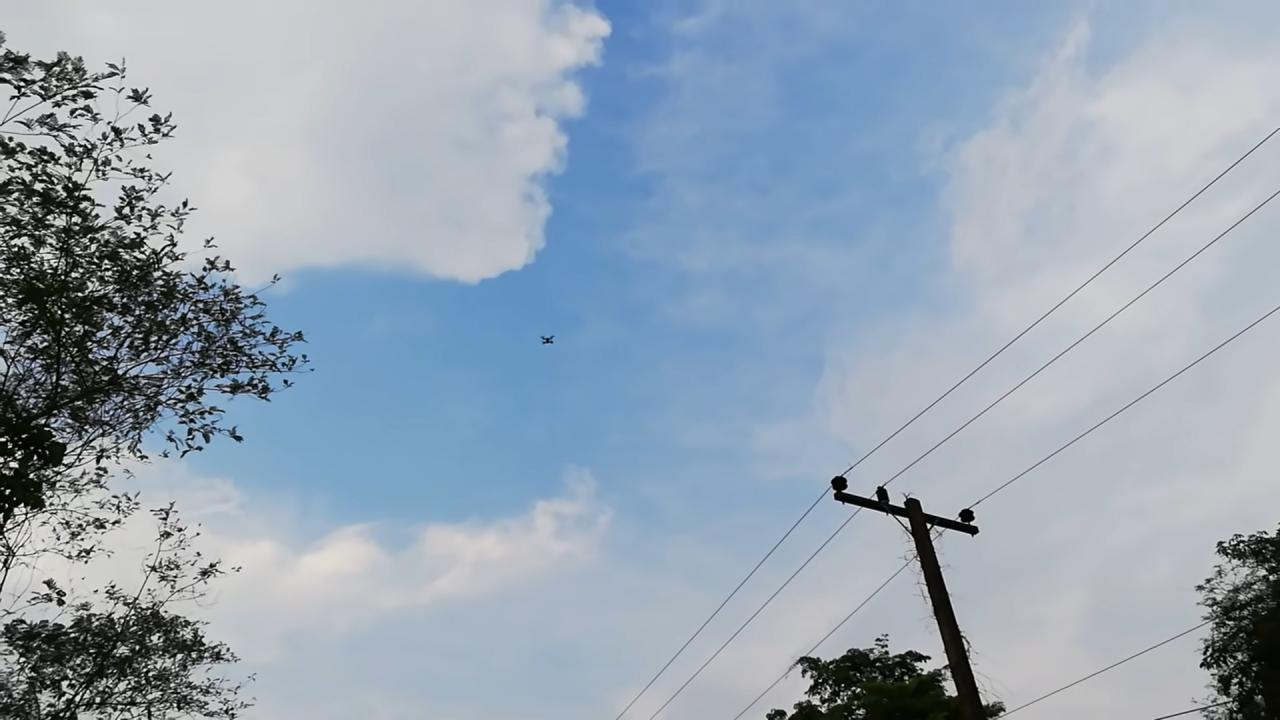Drone: (534, 328, 563, 352)
